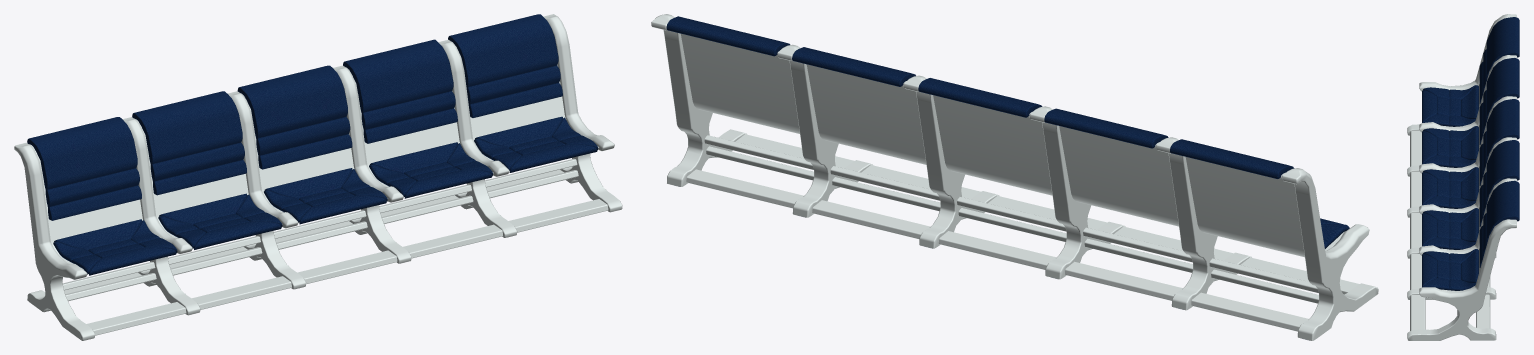
Rendered from Silla.fbx.
3 views of the same model, side by side, from view 1: azimuth 30°, elevation 25°; view 2: azimuth 150°, elevation 25°; view 3: azimuth 270°, elevation 25° (orthographic). The views are drawn at different scales.
Parts seen in each view (by area): view 1: Cube.003; view 2: Cube.003; view 3: Cube.003.
Part boxes in pixels (box(x1,y1,x2,y2)): Cube.003: box(14, 14, 622, 340); Cube.003: box(651, 14, 1378, 340); Cube.003: box(1407, 14, 1519, 340).
Size of the model in its own units: 41347 by 11054 by 9330.
Materials: 2 (2 with a texture image).
